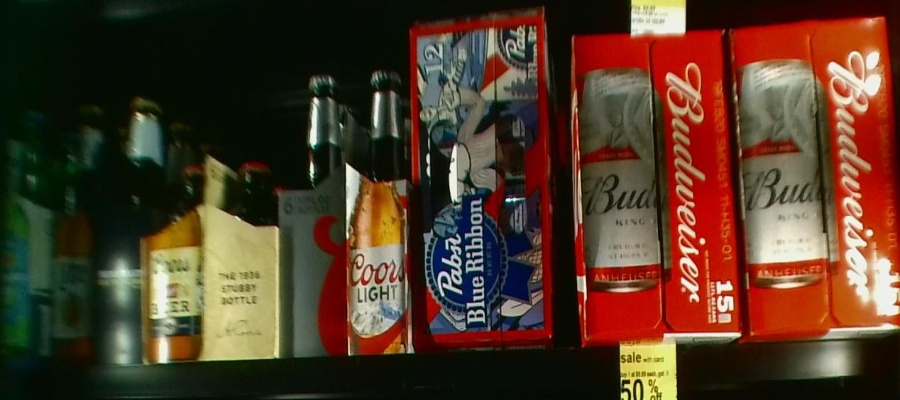bottle: (571, 28, 742, 335), (409, 8, 558, 349), (740, 20, 900, 334), (283, 65, 407, 345), (146, 156, 282, 361), (99, 99, 146, 364), (47, 124, 97, 368)
